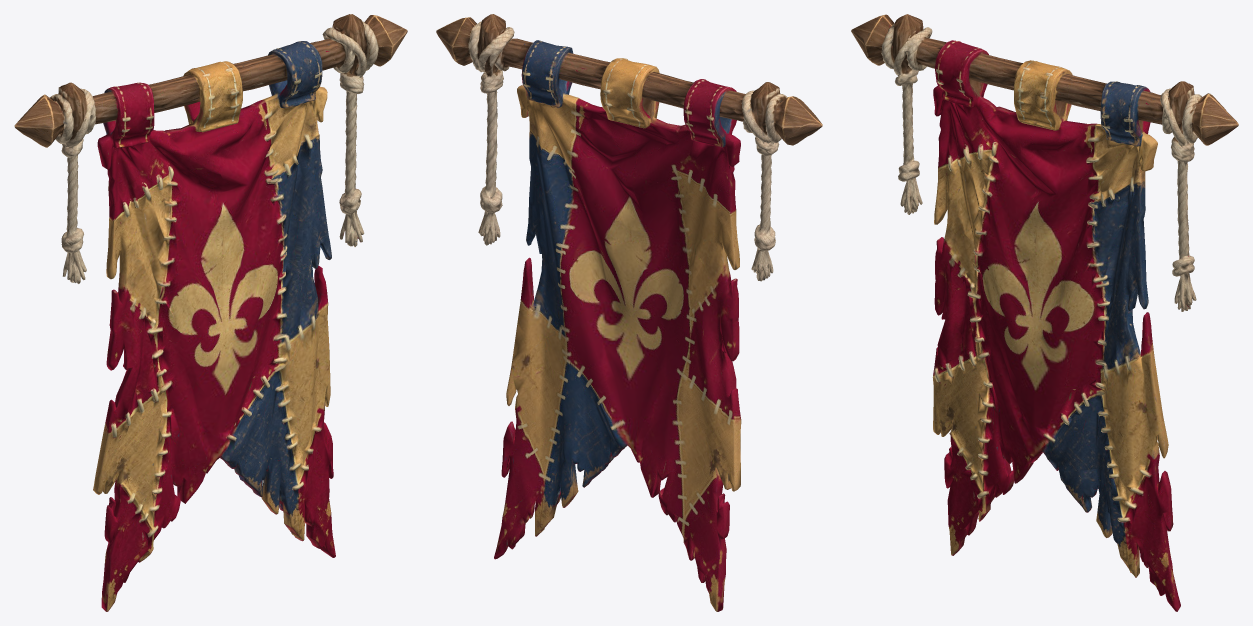
Rendered from banner.glb.
3 renders of one model, left to right at view 1: azimuth 30°, elevation 25°; view 2: azimuth 150°, elevation 25°; view 3: azimuth 330°, elevation 25°, orthographic.
Size of the model in its own units: 1.43 by 1.89 by 0.1779.
Materials: 1 (1 with a texture image).
